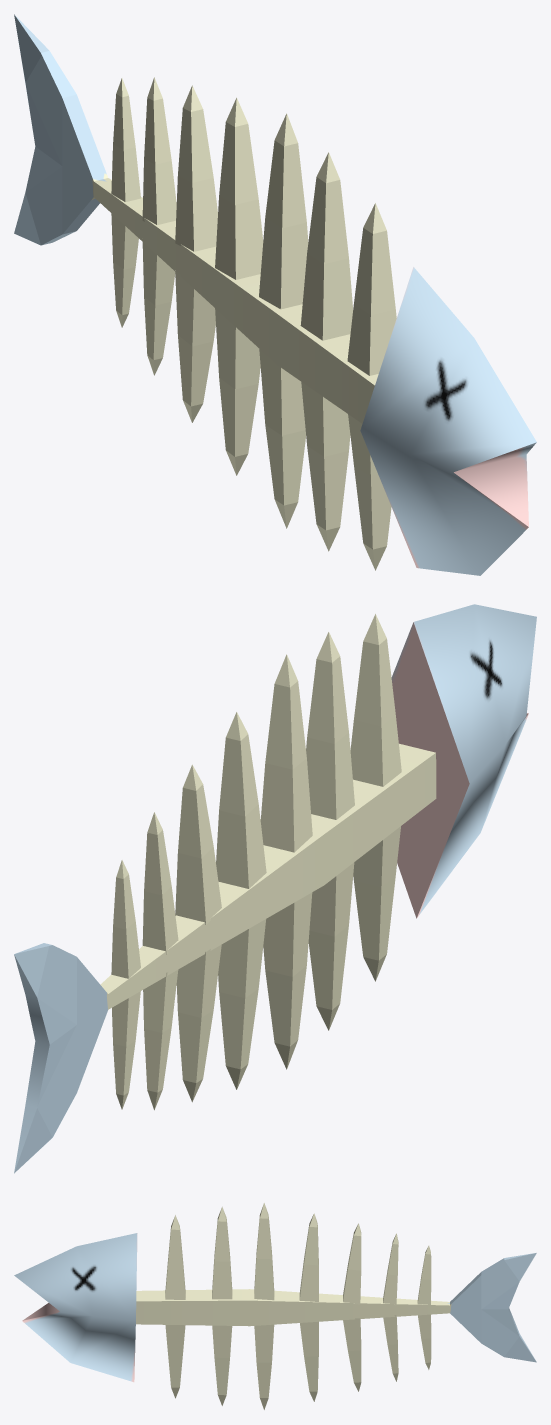
File: fishFBX.FBX
3 renders of one model, top to bottom at view 1: azimuth 30°, elevation 25°; view 2: azimuth 150°, elevation 25°; view 3: azimuth 270°, elevation 25°, orthographic. The views are drawn at different scales.
Visible parts, largest first — view 1: FishMesh; view 2: FishMesh; view 3: FishMesh.
Boxes of the visible parts, box(x1,y1,x2,y2) form: FishMesh: box(14, 14, 536, 575); FishMesh: box(14, 604, 536, 1173); FishMesh: box(14, 1203, 536, 1409).
Bounding box in the file's own units: 88.42 × 321 × 732.
1 material, 1 textured.
